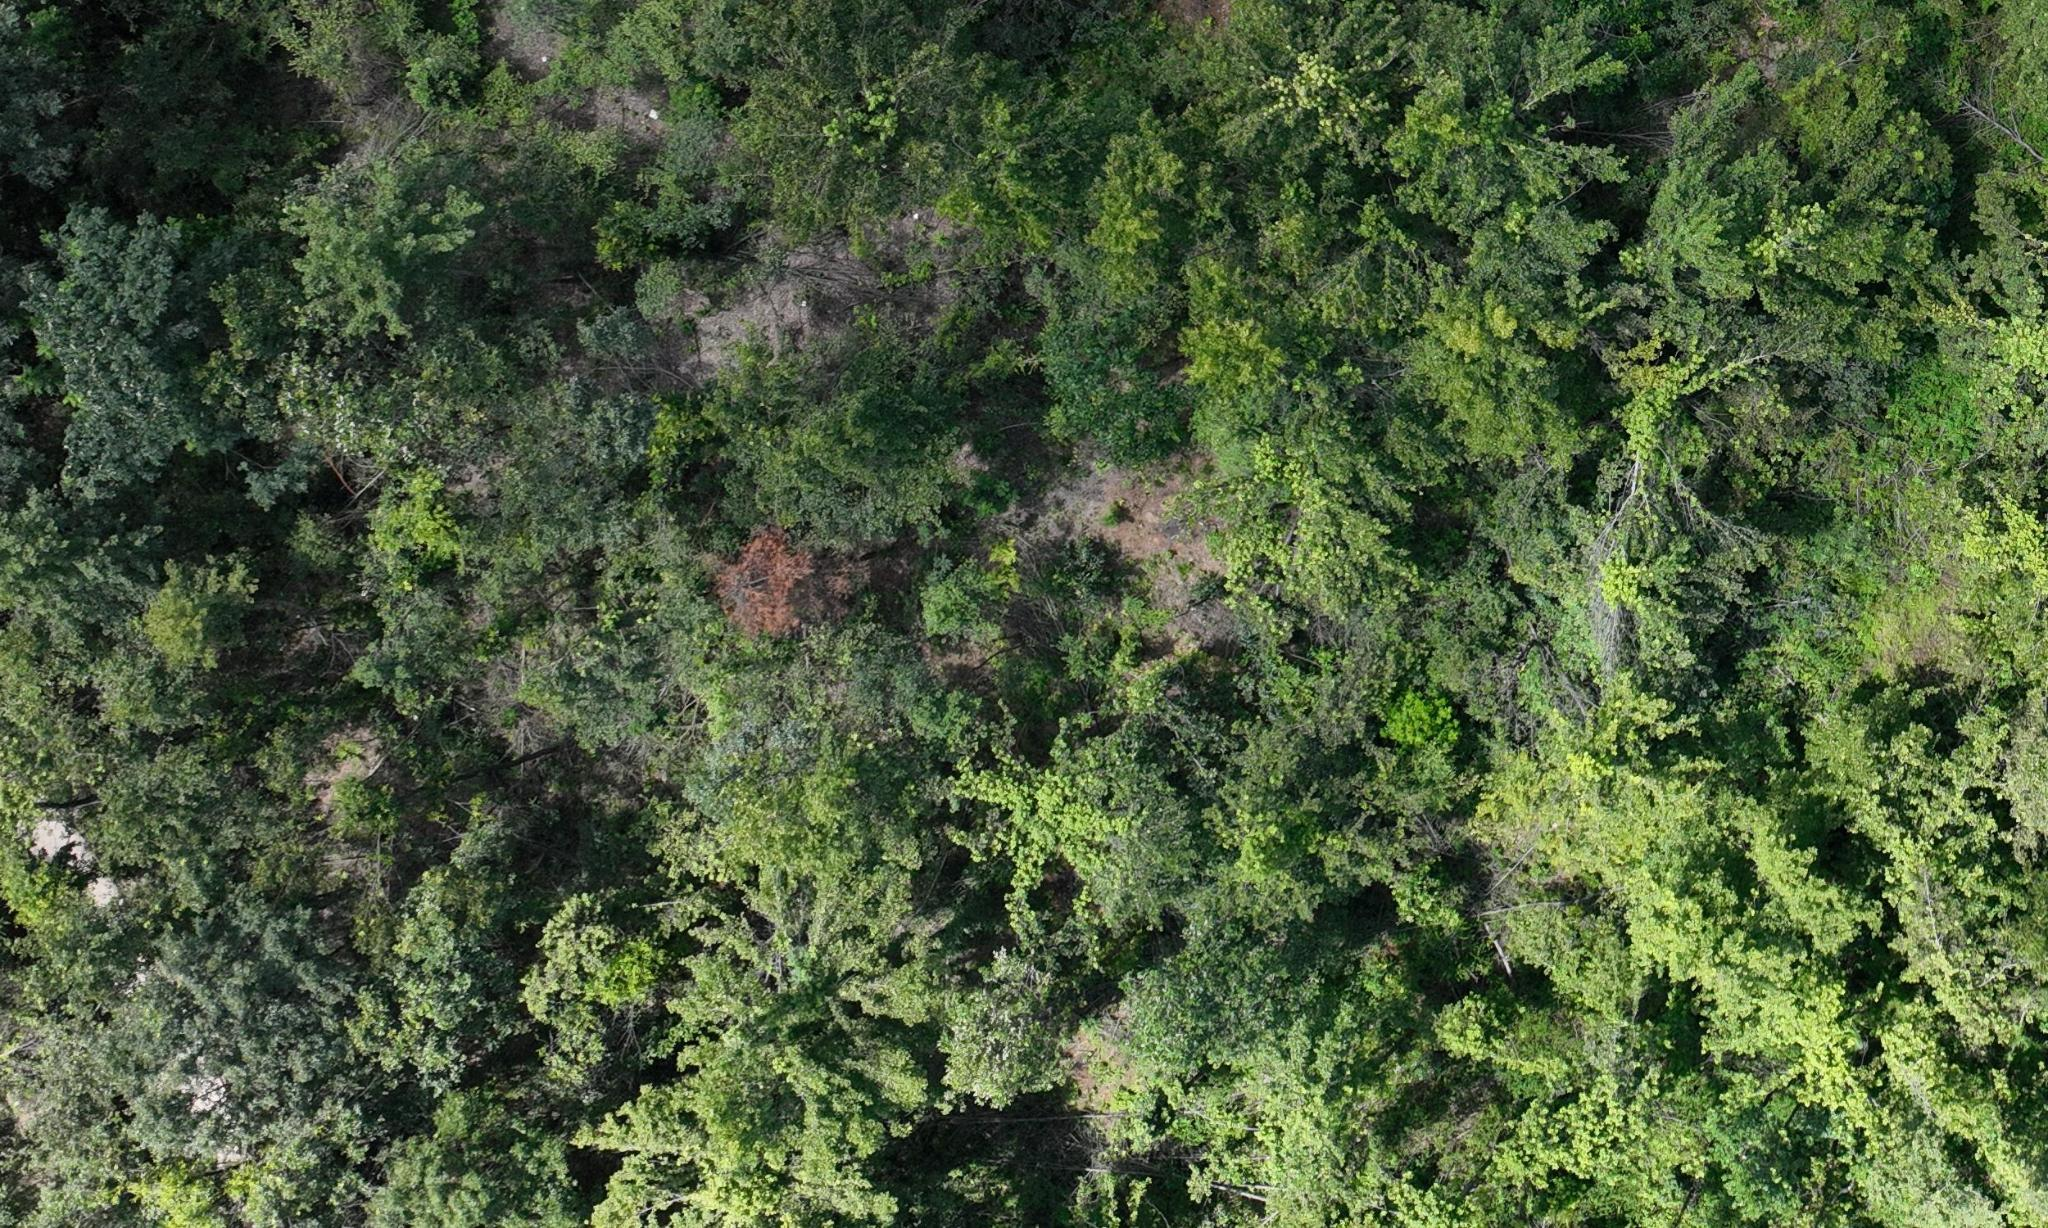heavy: (708, 512, 808, 645)
